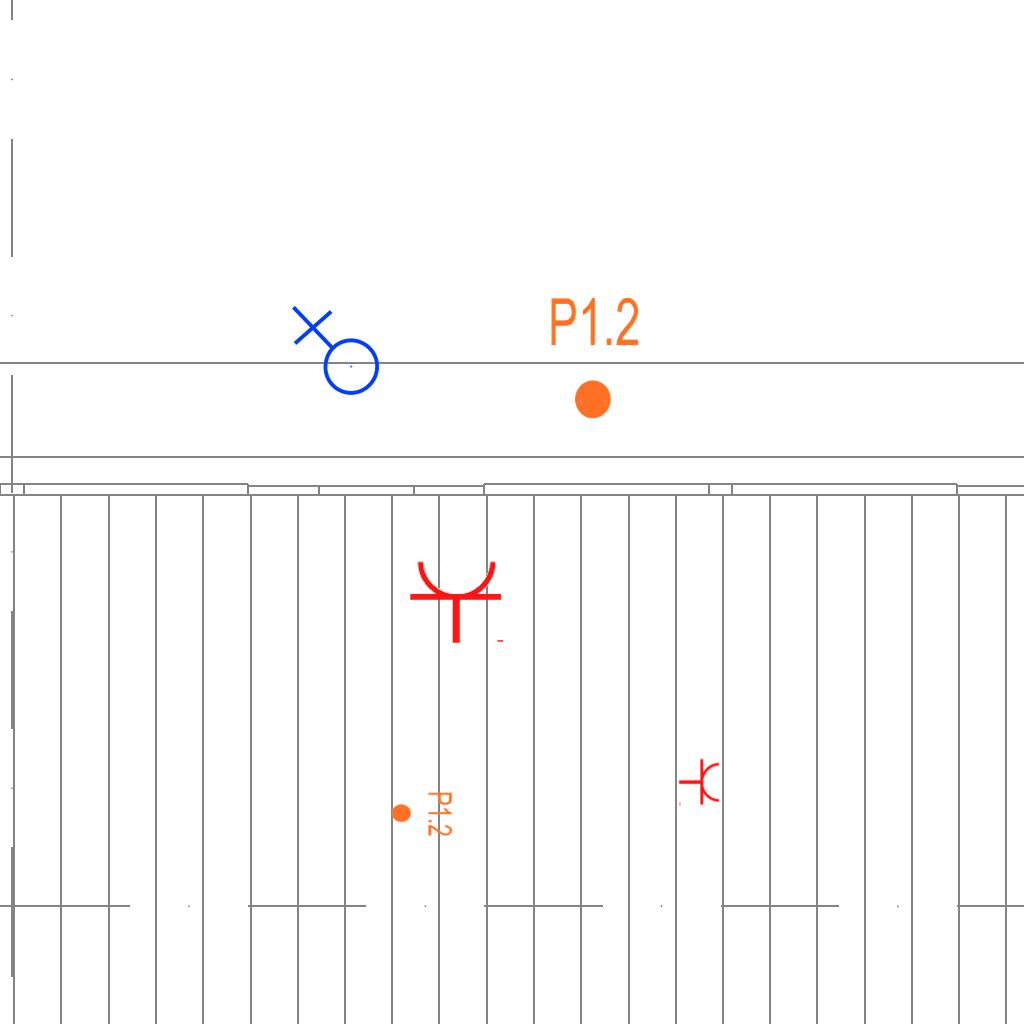Downlight_LED_Einbauleuchten_Flur: (548, 294, 641, 422), (390, 791, 454, 837)
Elektroanschluss_allgemein_230V_Geraeteanschlussdose_230V: (287, 305, 381, 404)
Schukosteckdose_einfach: (408, 558, 508, 645), (678, 758, 721, 808)
